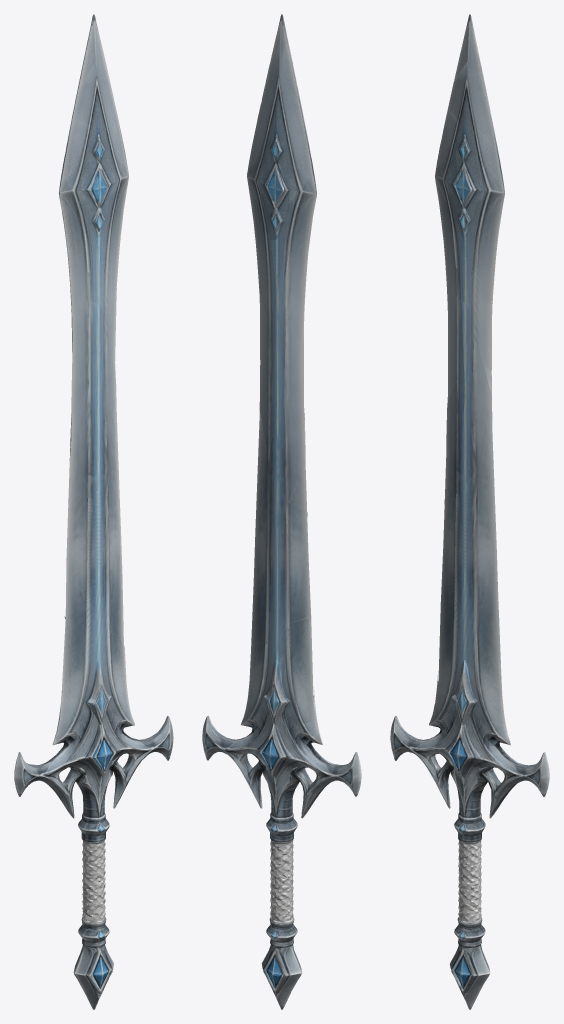
File: GRS026_Remesh_10k.fbx
3 renders of one model, left to right at view 1: azimuth 30°, elevation 25°; view 2: azimuth 150°, elevation 25°; view 3: azimuth 330°, elevation 25°, orthographic.
Visible parts, largest first — view 1: output_unwrapped; view 2: output_unwrapped; view 3: output_unwrapped.
Part boxes in pixels (x1,y1,x2,y2): output_unwrapped: [14, 14, 173, 1009]; output_unwrapped: [202, 14, 361, 1009]; output_unwrapped: [390, 14, 549, 1009].
Size of the model in its own units: 31.71 by 190 by 8.65.
1 material, 1 textured.
